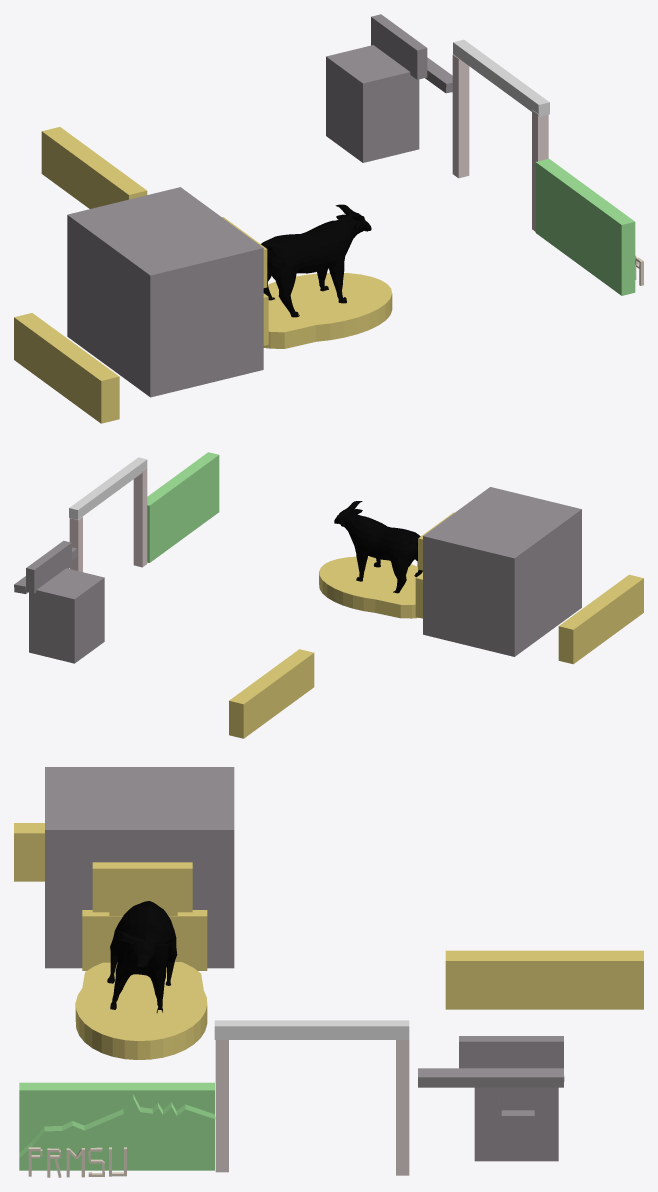
Rendered from Front_Gate_MOO_FIN.glb.
3 renders of one model, top to bottom at view 1: azimuth 30°, elevation 25°; view 2: azimuth 150°, elevation 25°; view 3: azimuth 270°, elevation 25°, orthographic. The views are drawn at different scales.
Parts seen in each view (by area): view 1: Cube.035, Cube.025, Cube, Cylinder, Cube.034, Cube_Material.004_0, Cube.031, Cube.024, Cube.036, Cube.027, Cube.023, Cube.026; view 2: Cube.035, Cube.025, Cube, Cylinder, Cube.031, Cube.034, Cube_Material.004_0, Cube.024, Cube.023, Cube.027, Cube.036; view 3: Cube.035, Cube, Cube.031, Cylinder, Cube.025, Cube_Material.004_0, Cube.030, Cube.024, Cube.028, Cube.027, Cube.026, Cube.036 (+2 smaller).
Part boxes in pixels (<box>): Cube.035: <box>67,187,263,397</box>; Cube.025: <box>326,45,419,162</box>; Cube: <box>535,159,635,295</box>; Cylinder: <box>263,273,392,348</box>; Cube.034: <box>14,313,119,423</box>; Cube_Material.004_0: <box>261,204,371,317</box>; Cube.031: <box>41,127,147,208</box>; Cube.024: <box>453,39,549,116</box>; Cube.036: <box>452,54,469,178</box>; Cube.027: <box>371,14,427,79</box>; Cube.023: <box>532,110,548,231</box>; Cube.026: <box>425,57,452,93</box>; Cube.035: <box>423,487,581,656</box>; Cube.025: <box>29,568,104,663</box>; Cube: <box>147,452,219,562</box>; Cylinder: <box>319,556,422,618</box>; Cube.031: <box>229,649,314,738</box>; Cube.034: <box>558,574,643,664</box>; Cube_Material.004_0: <box>334,501,422,593</box>; Cube.024: <box>69,457,147,519</box>; Cube.023: <box>133,467,147,567</box>; Cube.027: <box>26,540,71,593</box>; Cube.036: <box>69,516,82,571</box>; Cube.035: <box>45,767,234,968</box>; Cube: <box>19,1082,215,1170</box>; Cube.031: <box>445,950,643,1009</box>; Cylinder: <box>75,962,207,1059</box>; Cube.025: <box>474,1087,558,1161</box>; Cube_Material.004_0: <box>107,901,177,1012</box>; Cube.030: <box>92,862,192,912</box>; Cube.024: <box>214,1020,409,1039</box>; Cube.028: <box>82,910,207,970</box>; Cube.027: <box>459,1036,563,1068</box>; Cube.026: <box>418,1068,564,1087</box>; Cube.036: <box>396,1040,409,1175</box>.
Size of what is drawn, in the model's own units: 40.57 by 9.3 by 35.4.
34 materials, 1 textured.
